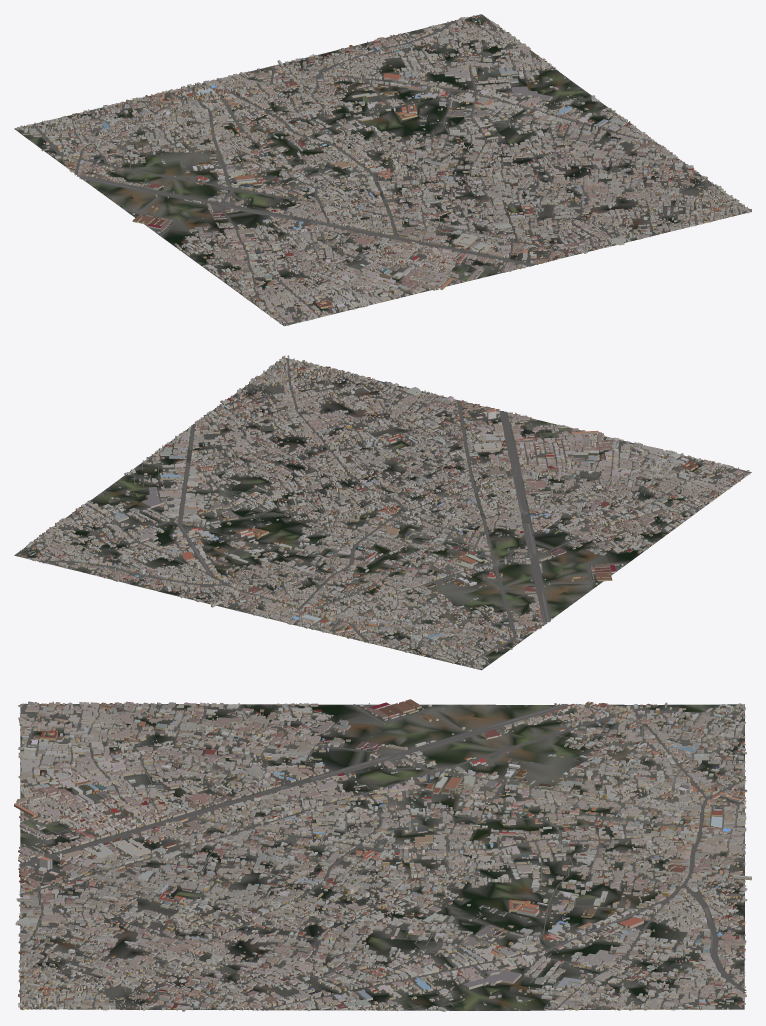
3 views of the same model, one above another, from view 1: azimuth 30°, elevation 25°; view 2: azimuth 150°, elevation 25°; view 3: azimuth 270°, elevation 25° (orthographic). The views are drawn at different scales.
Visible parts, largest first — view 1: buildings, ground, roads; view 2: buildings, ground, roads; view 3: buildings, ground, roads.
Part boxes in pixels (left/top/right/bottom): buildings: left=16, top=15, right=751, bottom=325; ground: left=14, top=14, right=751, bottom=326; roads: left=22, top=20, right=745, bottom=324; buildings: left=18, top=355, right=750, bottom=669; ground: left=14, top=358, right=751, bottom=670; roads: left=22, top=358, right=750, bottom=666; buildings: left=14, top=699, right=751, bottom=1011; ground: left=20, top=704, right=744, bottom=1010; roads: left=19, top=703, right=746, bottom=1010.
Bounding box in the file's own units: 2849 × 47.71 × 2853.
